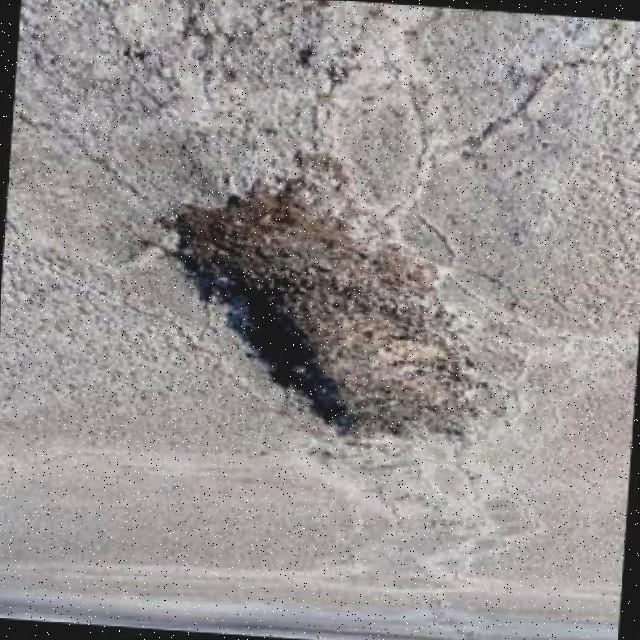Pothole: (165, 160, 474, 440)
